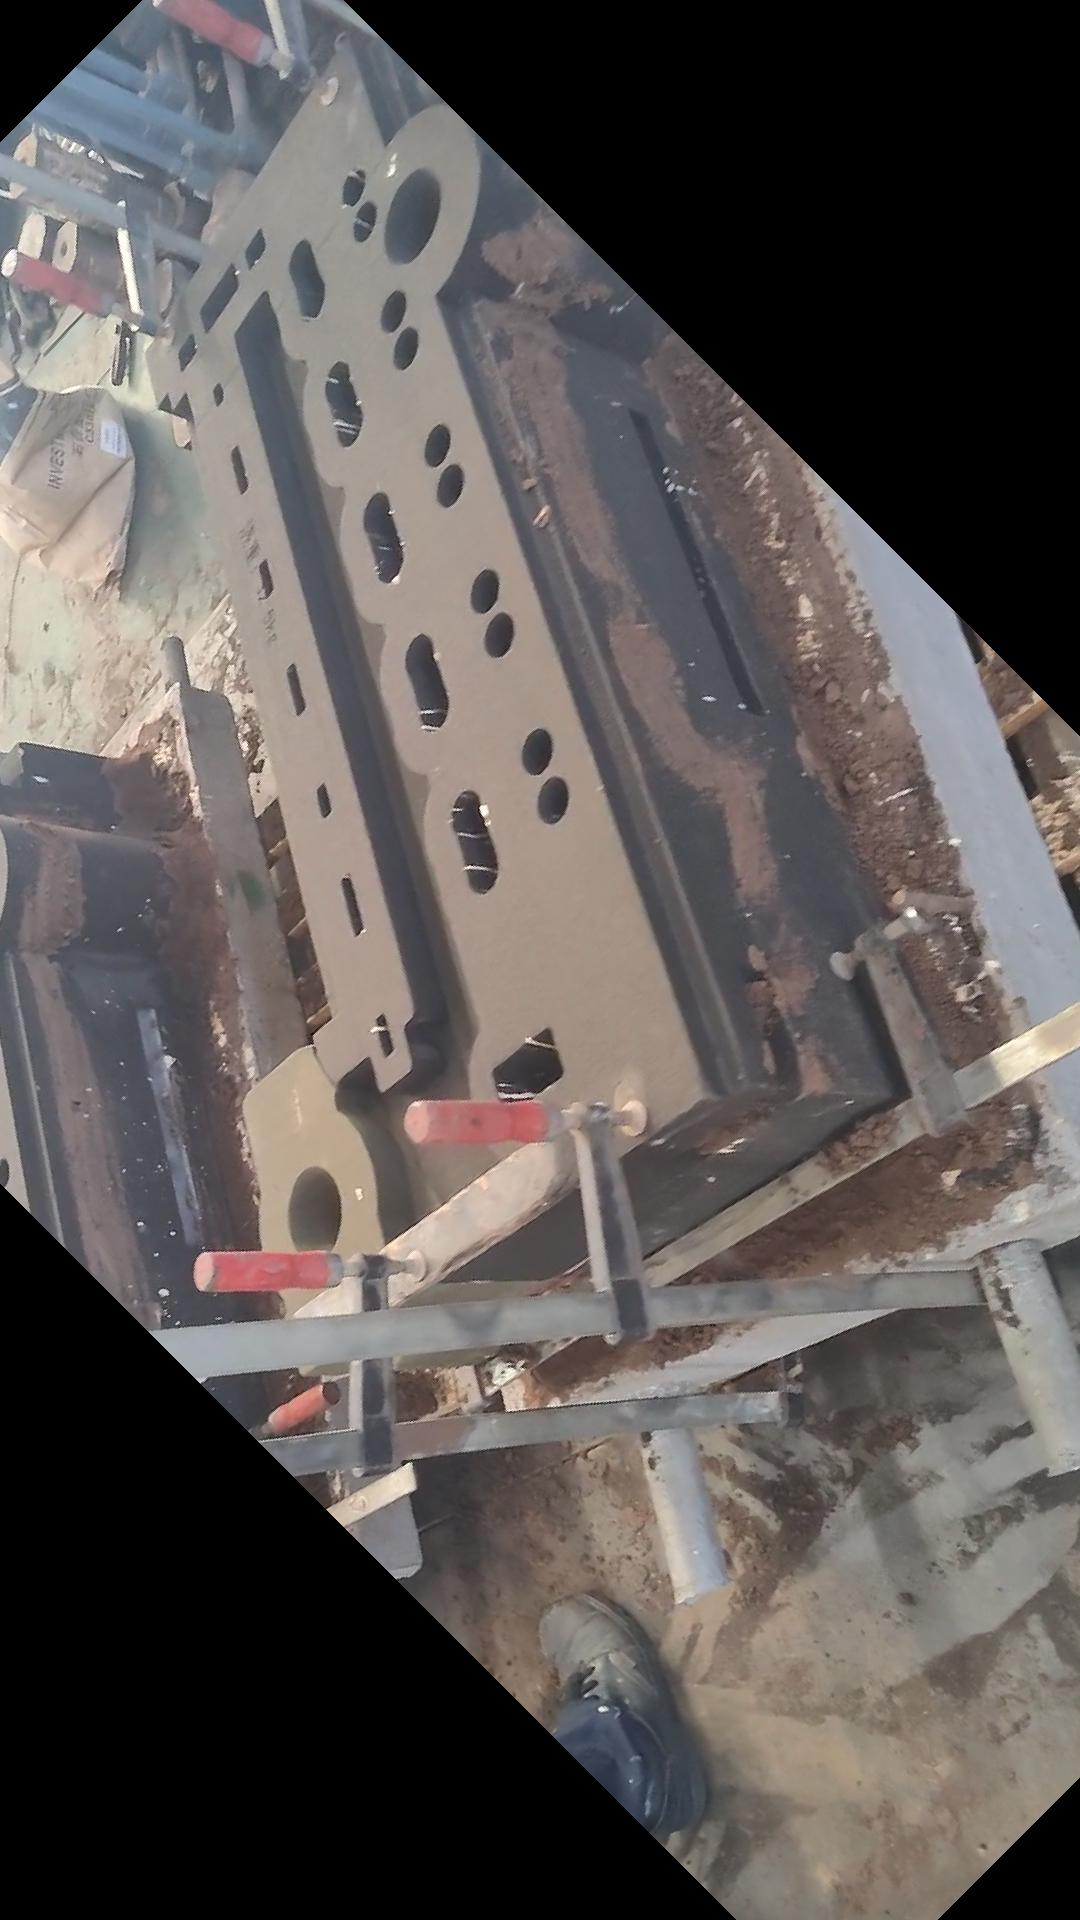pouring hole: (384, 167, 442, 266), (286, 1167, 342, 1254)
